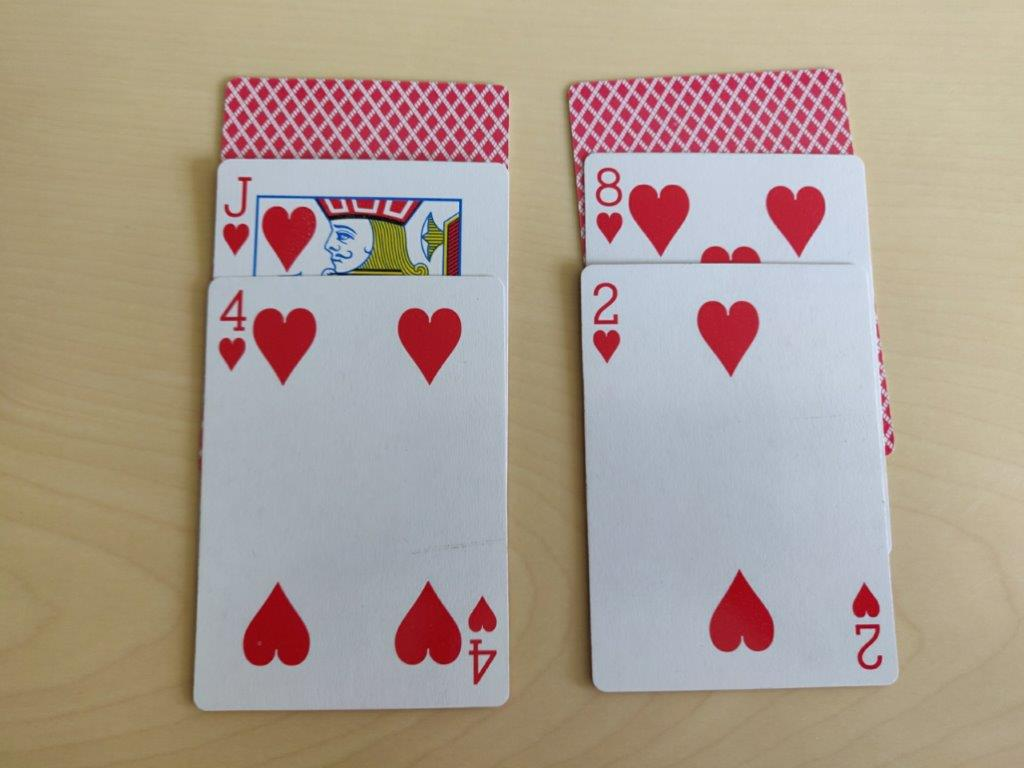2H: (588, 275, 628, 372)
4H: (210, 286, 253, 386)
8H: (593, 162, 628, 249)
BACK: (223, 72, 521, 165), (566, 75, 858, 151)
JH: (220, 168, 259, 269)
